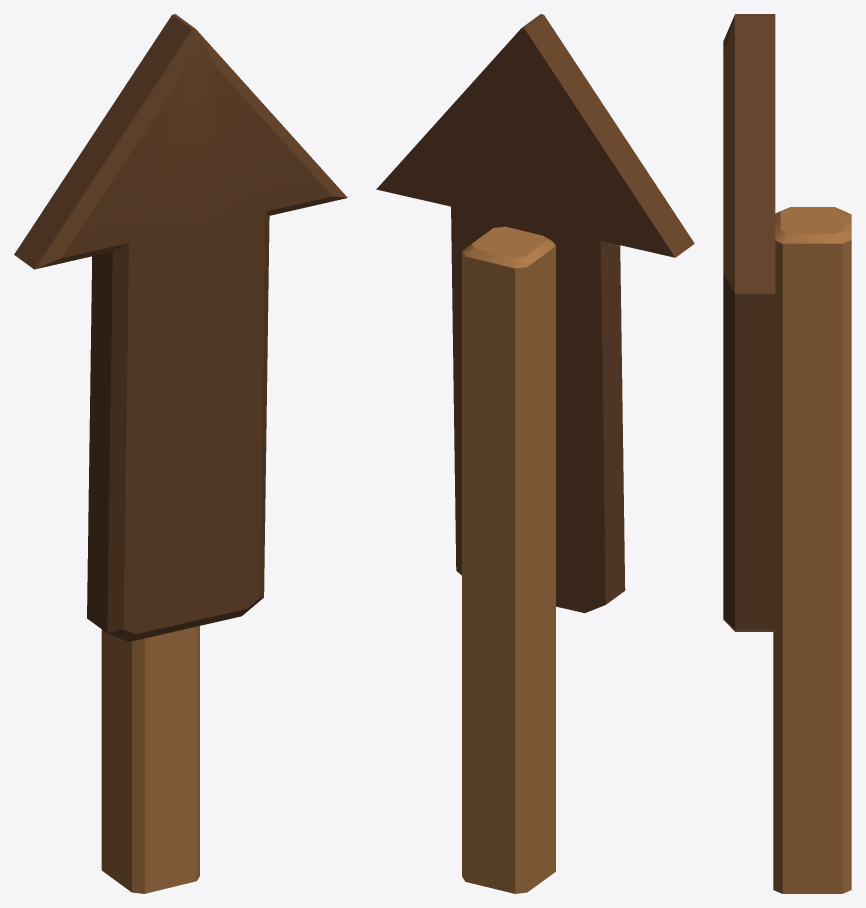
The model's file is cc0-arrow-up-lod0.glb.
3 views of the same model, side by side, from view 1: azimuth 30°, elevation 25°; view 2: azimuth 150°, elevation 25°; view 3: azimuth 270°, elevation 25° (orthographic). The views are drawn at different scales.
Visible parts, largest first — view 1: part_0; view 2: part_0; view 3: part_0.
Part boxes in pixels (x1=…): part_0: x1=14, y1=14, x2=347, y2=893; part_0: x1=376, y1=14, x2=694, y2=893; part_0: x1=723, y1=14, x2=851, y2=893.
Size of the model in its own units: 1.02 by 2.7 by 0.3632.
